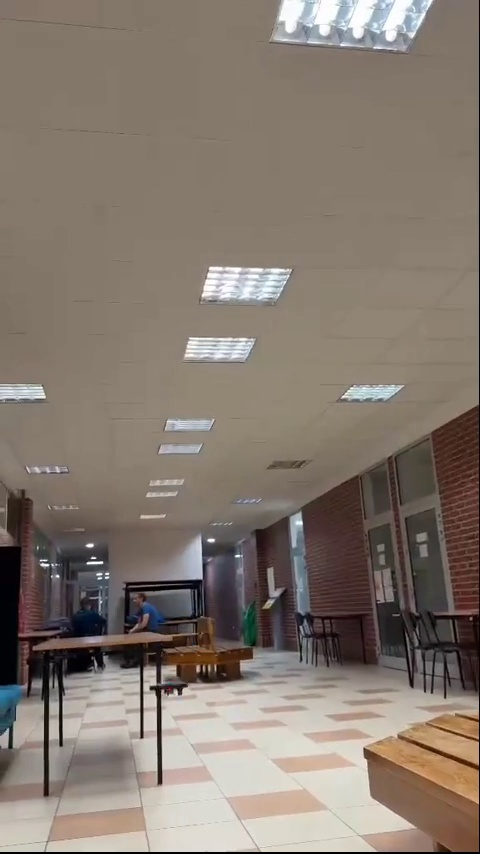drone: (148, 684, 189, 693)
no vest: (69, 598, 108, 634), (127, 595, 156, 631)
